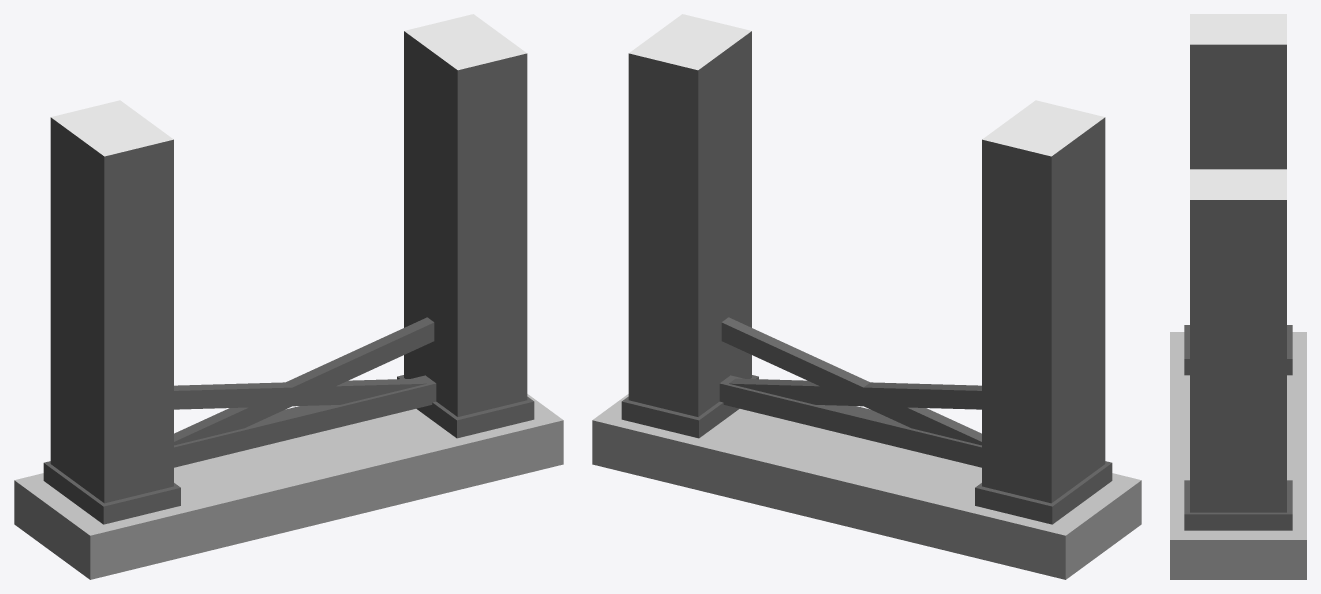
The model's file is bridge_tower_002.fbx.
3 views of the same model, side by side, from view 1: azimuth 30°, elevation 25°; view 2: azimuth 150°, elevation 25°; view 3: azimuth 270°, elevation 25° (orthographic). The views are drawn at different scales.
Parts seen in each view (by area): view 1: bridge_tower_002; view 2: bridge_tower_002; view 3: bridge_tower_002.
Boxes of the visible parts, x1,y1,x2,y2 form: bridge_tower_002: [14, 14, 563, 579]; bridge_tower_002: [592, 14, 1141, 579]; bridge_tower_002: [1170, 14, 1306, 579].
Size of the model in its own units: 1680 by 1388 by 467.
